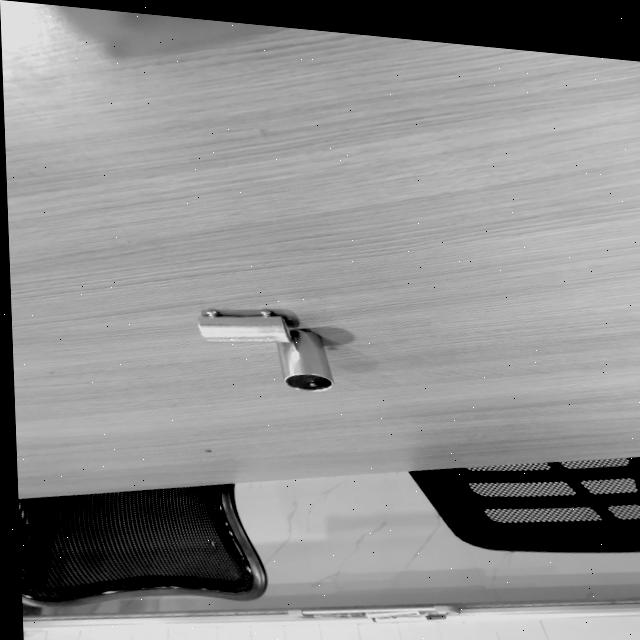Co_Lon: (273, 323, 335, 399)
Co_Nho: (197, 312, 291, 344)
